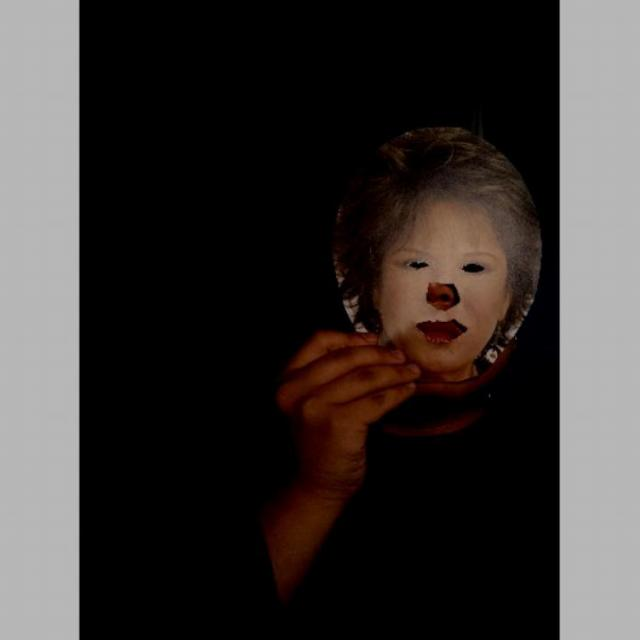mask: (327, 123, 546, 374)
